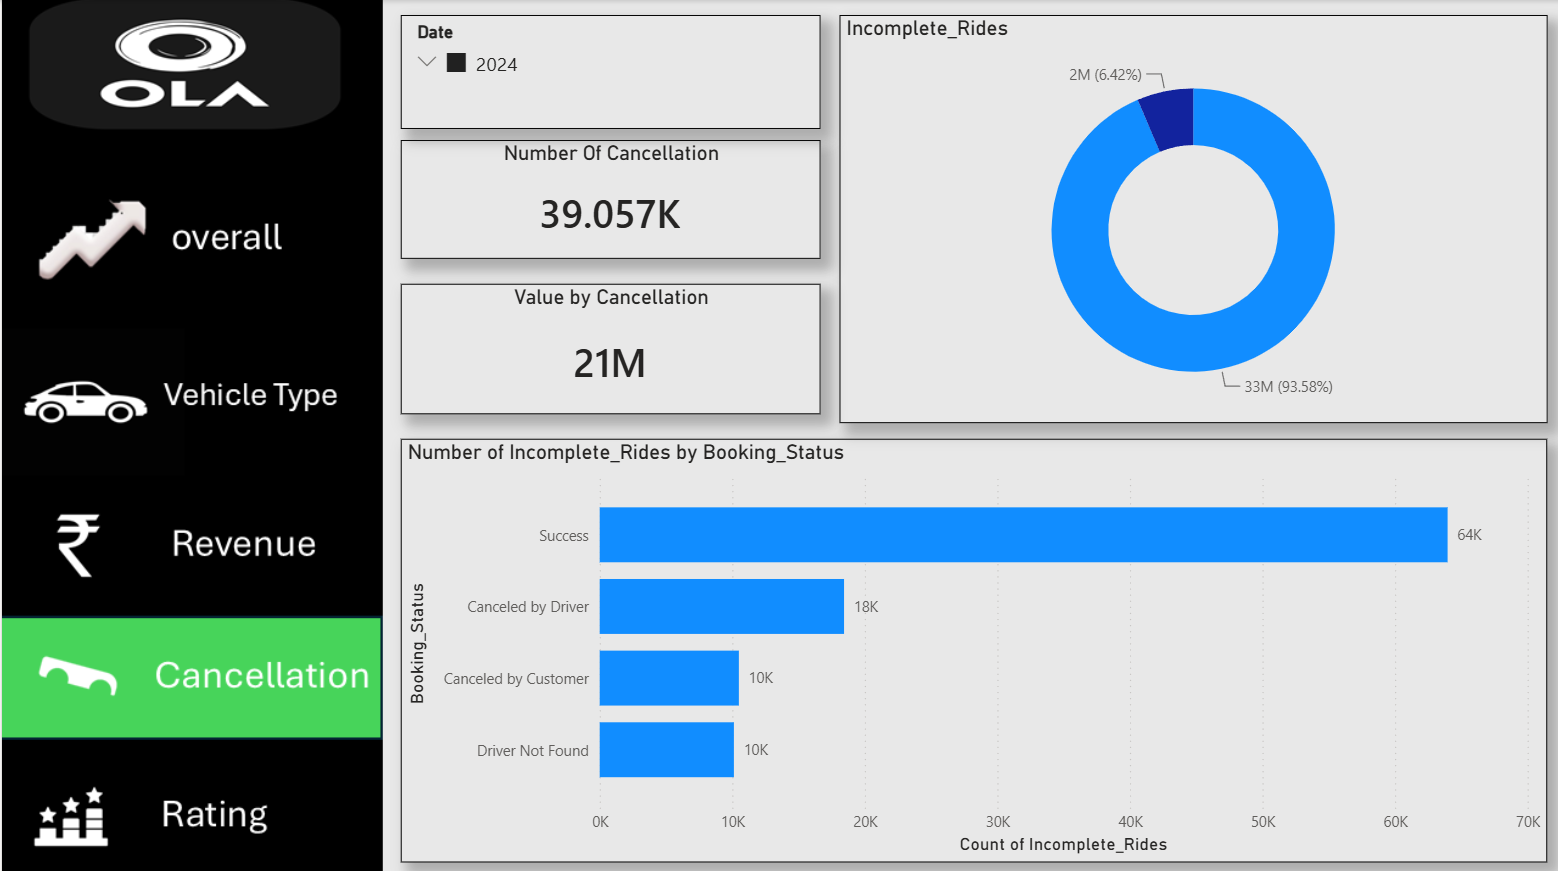

Layout of this report page (visuals, bound fields, positions):
{"tool":"powerbi","page":{"name":"Cancellation","canvas":[1280,720],"ordinal":3},"visuals":[{"type":"actionButton","box":[0,274.4,311.5,101.5],"z":0},{"type":"actionButton","box":[0,618.9,311.5,101.5],"z":1000},{"type":"actionButton","box":[0,407.5,311.5,101.5],"z":2000},{"type":"actionButton","box":[0,142.7,311.5,101.5],"z":3000},{"type":"clusteredBarChart","title":"Number of Incomplete_Rides by Booking_Status","fields":{"Y":["CountNonNull(July.Incomplete_Rides)"],"Category":["July.Booking_Status"]},"box":[327.9,360.5,941.9,347.7],"z":4000},{"type":"donutChart","title":"Incomplete_Rides ","fields":{"Category":["July.Incomplete_Rides"],"Y":["Sum(July.Booking_Value)"]},"box":[687.5,12.3,581.8,334.8],"z":5000},{"type":"cardVisual","title":"Value by Cancellation","fields":{"Data":["Sum(July.Booking_Value)"]},"box":[328,233.3,344.4,107],"z":6000},{"type":"cardVisual","title":"Number Of Cancellation","fields":{"Data":["CountNonNull(July.Booking_Value)"]},"box":[328,115.3,344.4,97.4],"z":6001},{"type":"slicer","fields":{"Values":["July.Date.Variation.Date Hierarchy.Year","July.Date.Variation.Date Hierarchy.Month","July.Date.Variation.Date Hierarchy.Day"]},"box":[328,12.3,344.4,93.3],"z":6002}]}

Visuals, with their boxes on the page's 1280x720 design canvas (x1, y1, x2, y2). These are canvas units, not pixel positions in the 1558x871 screenshot, which may show the page scaled, cropped or inside an application window:
actionButton: 0,274,312,376
actionButton: 0,619,312,720
actionButton: 0,408,312,509
actionButton: 0,143,312,244
"Number of Incomplete_Rides by Booking_Status" clusteredBarChart: 328,360,1270,708
"Incomplete_Rides " donutChart: 688,12,1269,347
"Value by Cancellation" cardVisual: 328,233,672,340
"Number Of Cancellation" cardVisual: 328,115,672,213
slicer - July.Date.Variation.Date Hierarchy.Year x July.Date.Variation.Date Hierarchy.Month: 328,12,672,106
